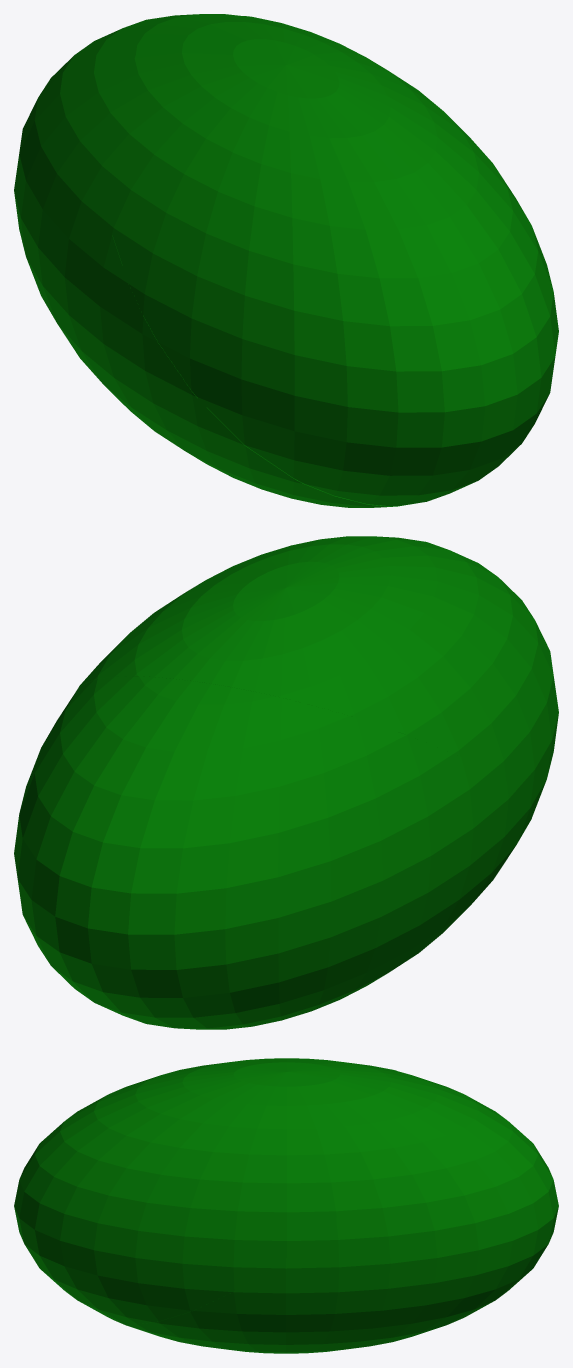
The model's file is WholeMelon.fbx.
3 views of the same model, one above another, from view 1: azimuth 30°, elevation 25°; view 2: azimuth 150°, elevation 25°; view 3: azimuth 270°, elevation 25° (orthographic). The views are drawn at different scales.
Parts seen in each view (by area): view 1: Sphere.002; view 2: Sphere.002; view 3: Sphere.002.
Boxes of the visible parts, x1=… form: Sphere.002: x1=14, y1=14, x2=558, y2=507; Sphere.002: x1=14, y1=536, x2=558, y2=1029; Sphere.002: x1=14, y1=1058, x2=558, y2=1353.
Size of the model in its own units: 152 by 152 by 280.
